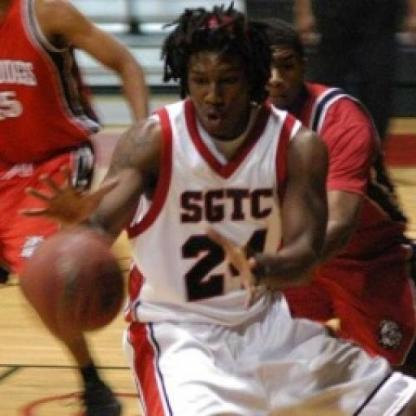basketball: (13, 228, 130, 336)
